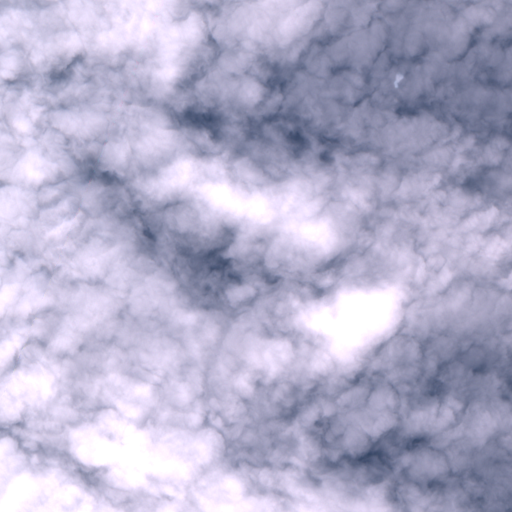Iceberg: (395, 74, 403, 86)
